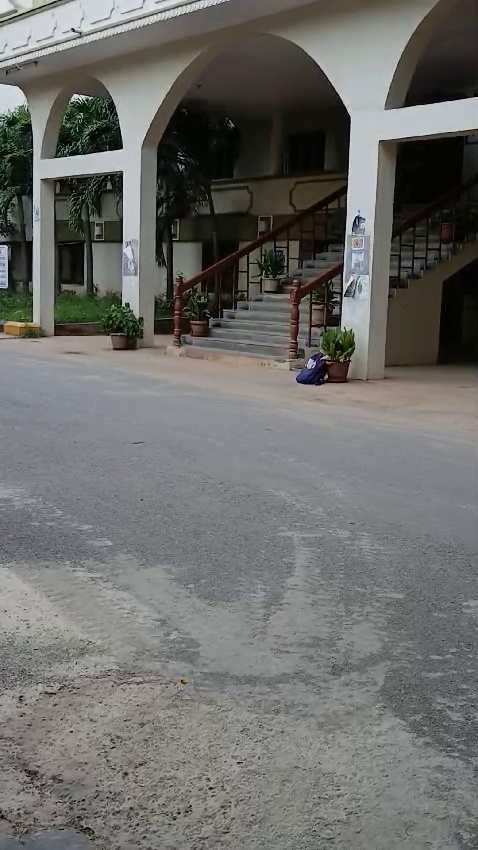bag: (289, 343, 323, 393)
